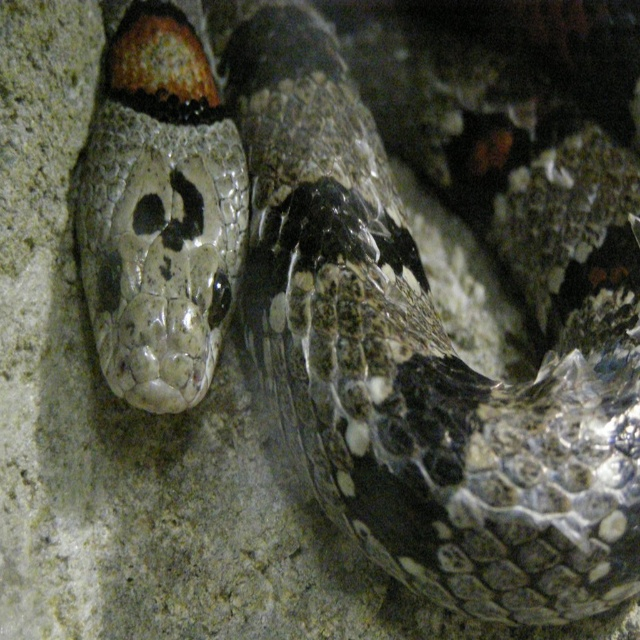Snake: (77, 2, 640, 639)
